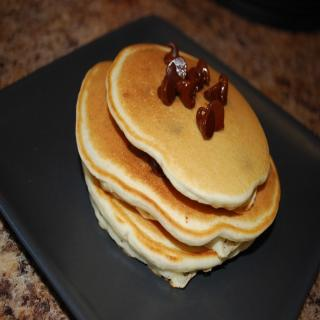Pancake: (76, 61, 284, 248), (82, 160, 251, 290)
